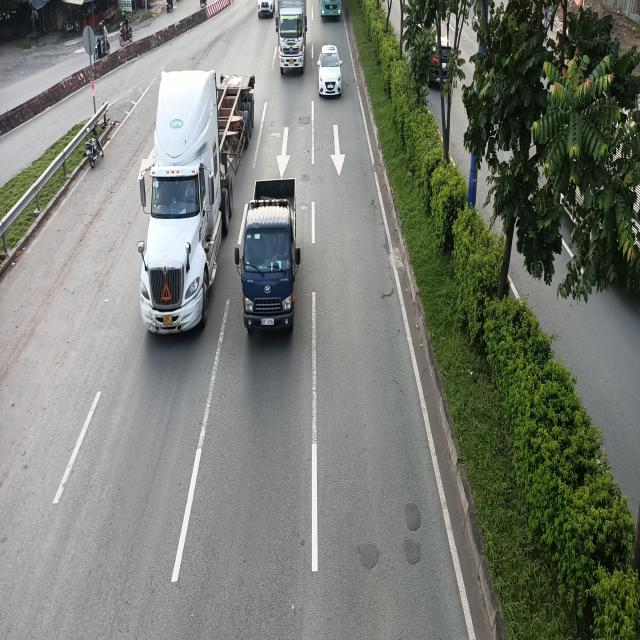car: (316, 45, 342, 99)
container: (137, 67, 253, 338)
truck: (237, 179, 303, 333), (276, 0, 308, 75)
